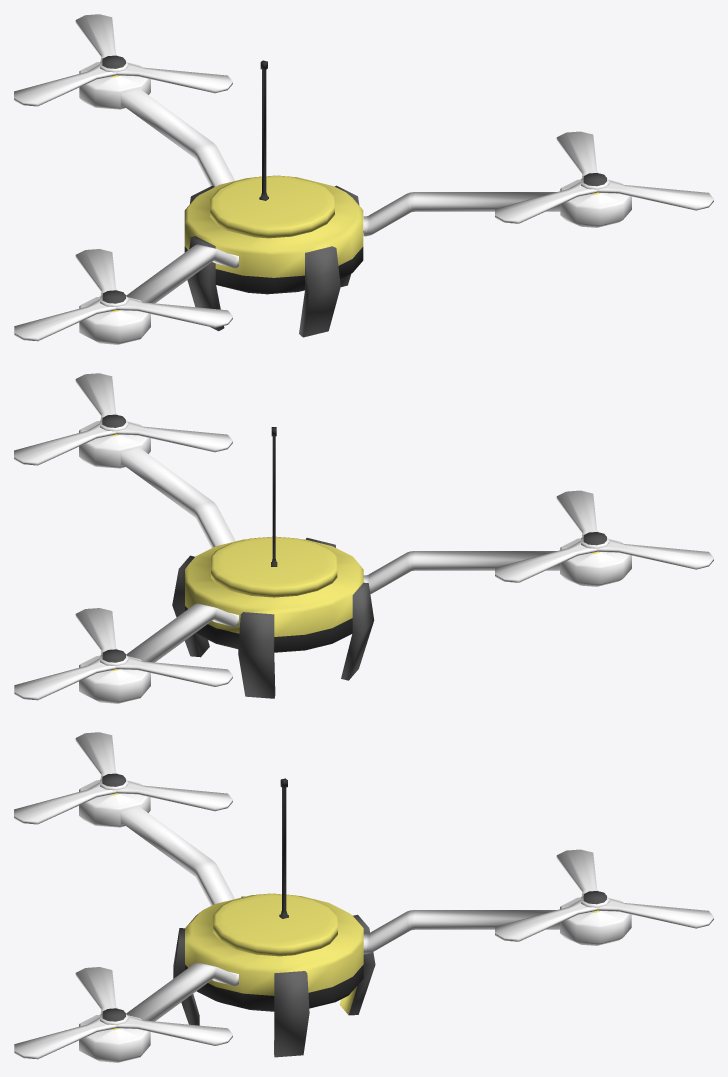
The model's file is Box Drone smooth.fbx.
The picture shows the model from 3 angles, top to bottom: view 1: azimuth 30°, elevation 25°; view 2: azimuth 150°, elevation 25°; view 3: azimuth 270°, elevation 25°; orthographic projection.
Visible parts, largest first — view 1: Box Drone, Propel 2, Propel 3, Propel 1; view 2: Box Drone, Propel 1, Propel 3, Propel 2; view 3: Box Drone, Propel 1, Propel 2, Propel 3.
Boxes of the visible parts, left/top/right/bottom form: Box Drone: left=79, top=60, right=631, bottom=344; Propel 2: left=14, top=14, right=232, bottom=106; Propel 3: left=495, top=131, right=713, bottom=223; Propel 1: left=14, top=249, right=232, bottom=341; Box Drone: left=79, top=421, right=631, bottom=703; Propel 1: left=495, top=490, right=713, bottom=582; Propel 3: left=14, top=373, right=232, bottom=465; Propel 2: left=14, top=608, right=232, bottom=700; Box Drone: left=79, top=778, right=631, bottom=1062; Propel 1: left=14, top=732, right=232, bottom=824; Propel 2: left=495, top=849, right=713, bottom=941; Propel 3: left=14, top=967, right=232, bottom=1059.
Bounding box in the file's own units: 103 × 35.31 × 93.66.
